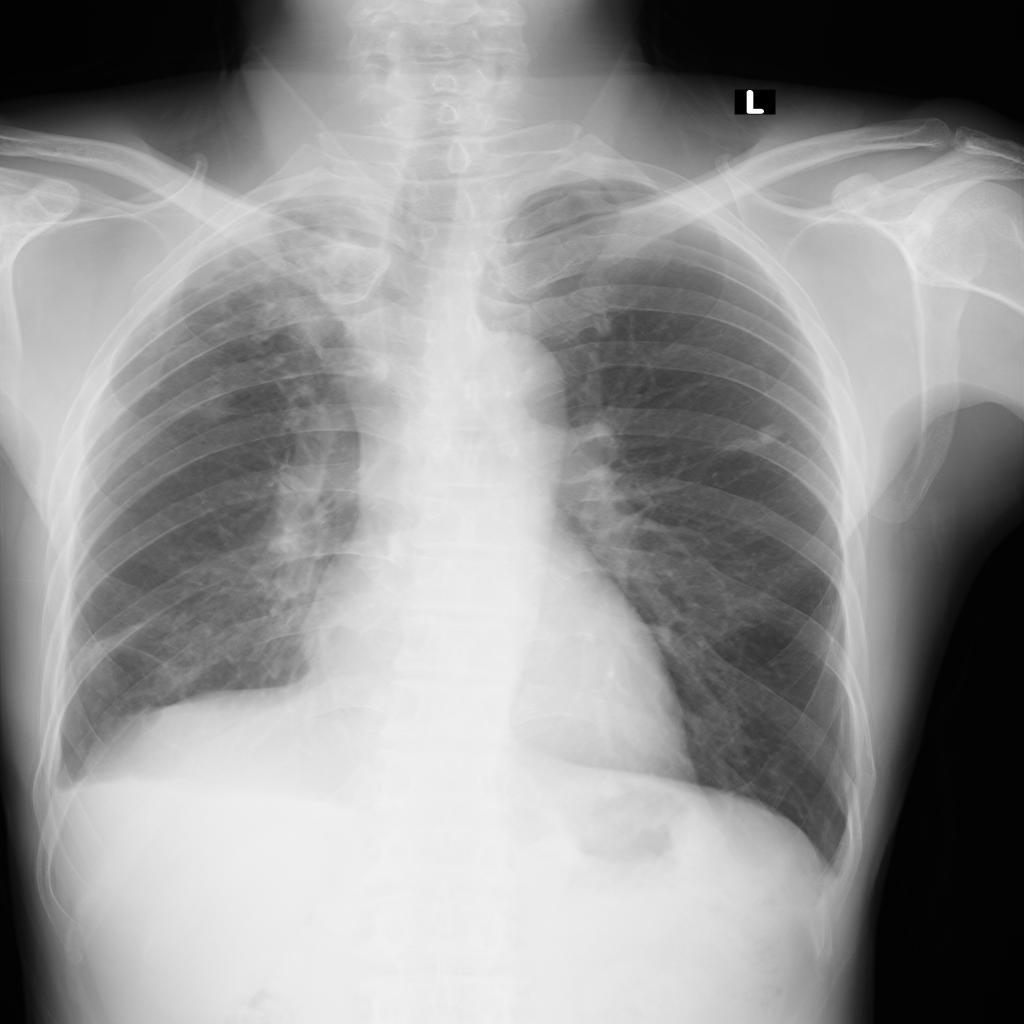Nodule: (756, 424, 781, 445)
